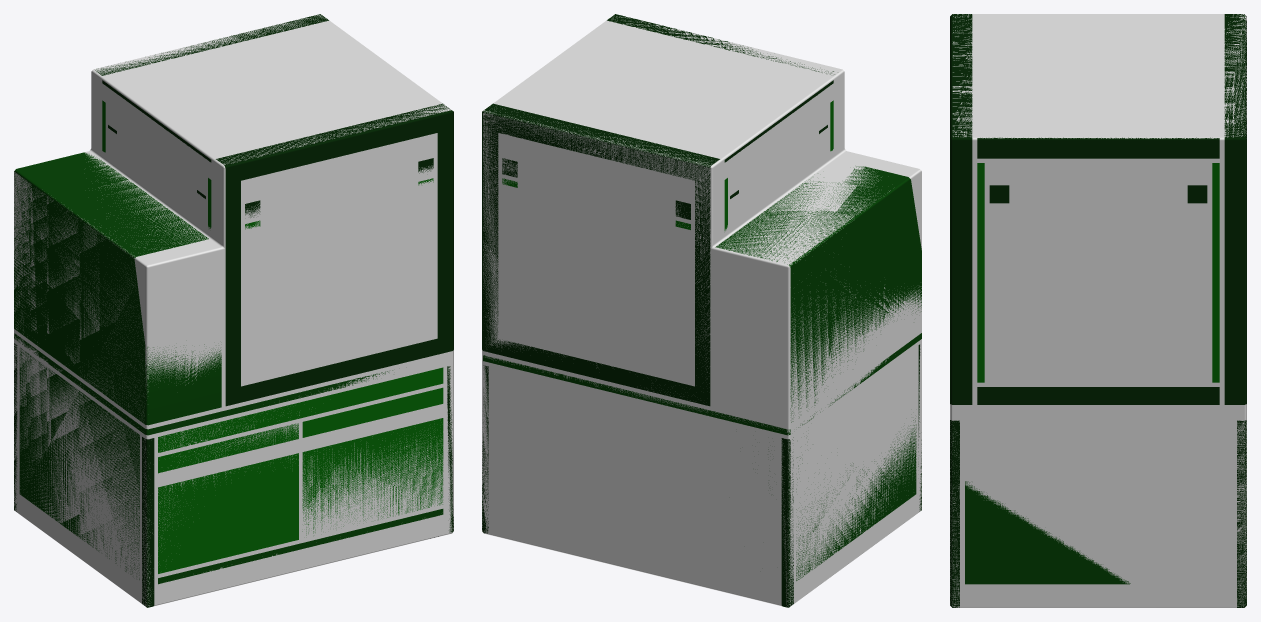
Rendered from Lab_Printer.fbx.
3 views of the same model, side by side, from view 1: azimuth 30°, elevation 25°; view 2: azimuth 150°, elevation 25°; view 3: azimuth 270°, elevation 25° (orthographic). The views are drawn at different scales.
Parts seen in each view (by area): view 1: Col, Plane.742; view 2: Col, Plane.742; view 3: Col, Plane.742.
Boxes of the visible parts, x1,y1,x2,y2 form: Col: (14,14,453,607); Plane.742: (14,14,453,607); Col: (482,16,921,607); Plane.742: (482,14,921,607); Col: (950,14,1246,607); Plane.742: (950,14,1246,607).
Bounding box in the file's own units: 1.6 × 2.1 × 1.2.
